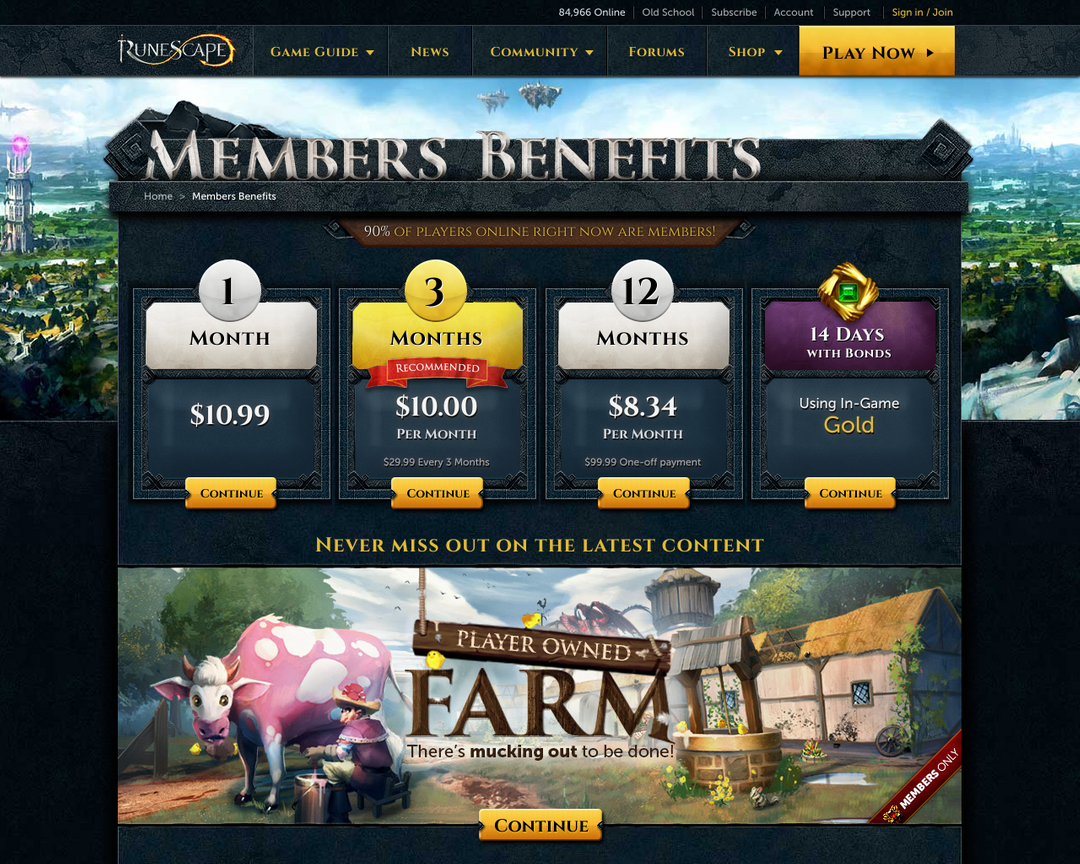Runescape: (111, 30, 238, 68)
